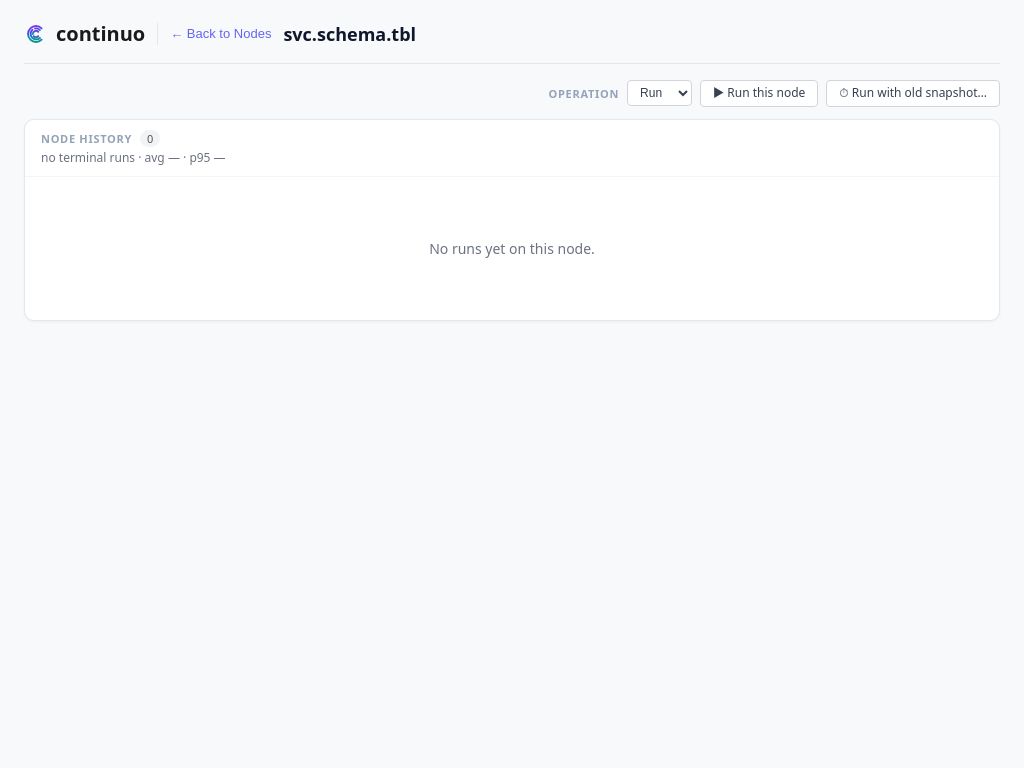
NodeDetailPage › "Run with old snapshot" opens the picker dialog
Click the button "⏱ Run with old snapshot…". click: (913, 93)
box: x1=826 y1=80 x2=1000 y2=107
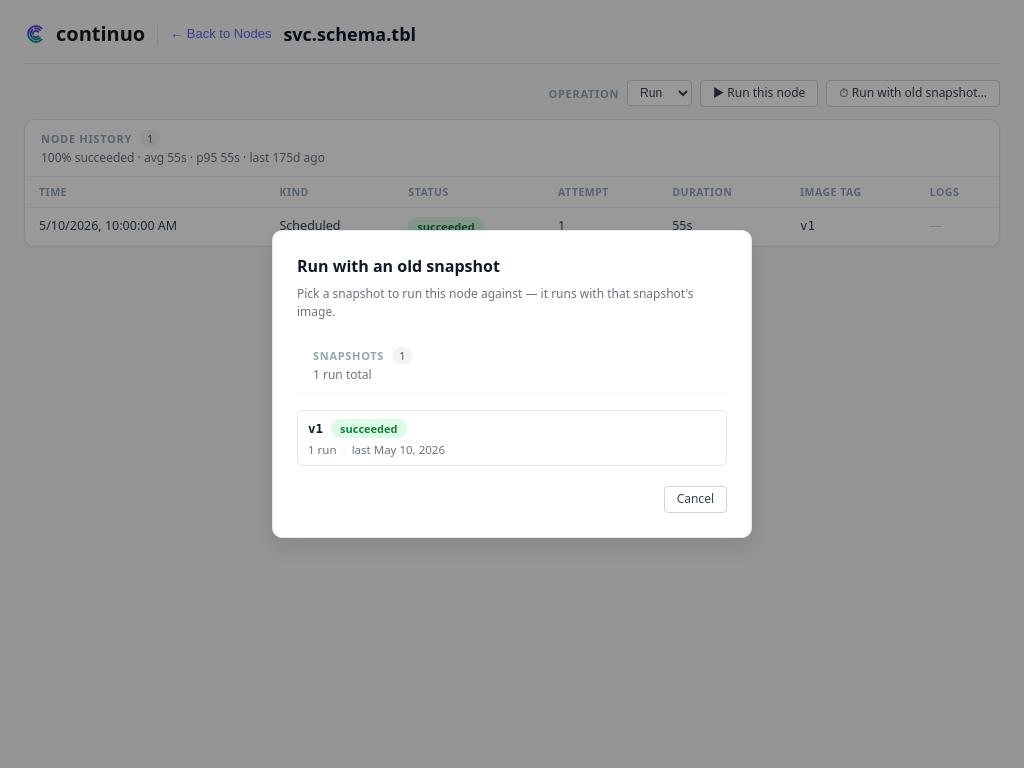
Check: the dialog is shown, box x1=272 y1=230 x2=752 y2=538
Check: the button with aria-label "v1 snapshot" is shown, box x1=297 y1=410 x2=727 y2=466
